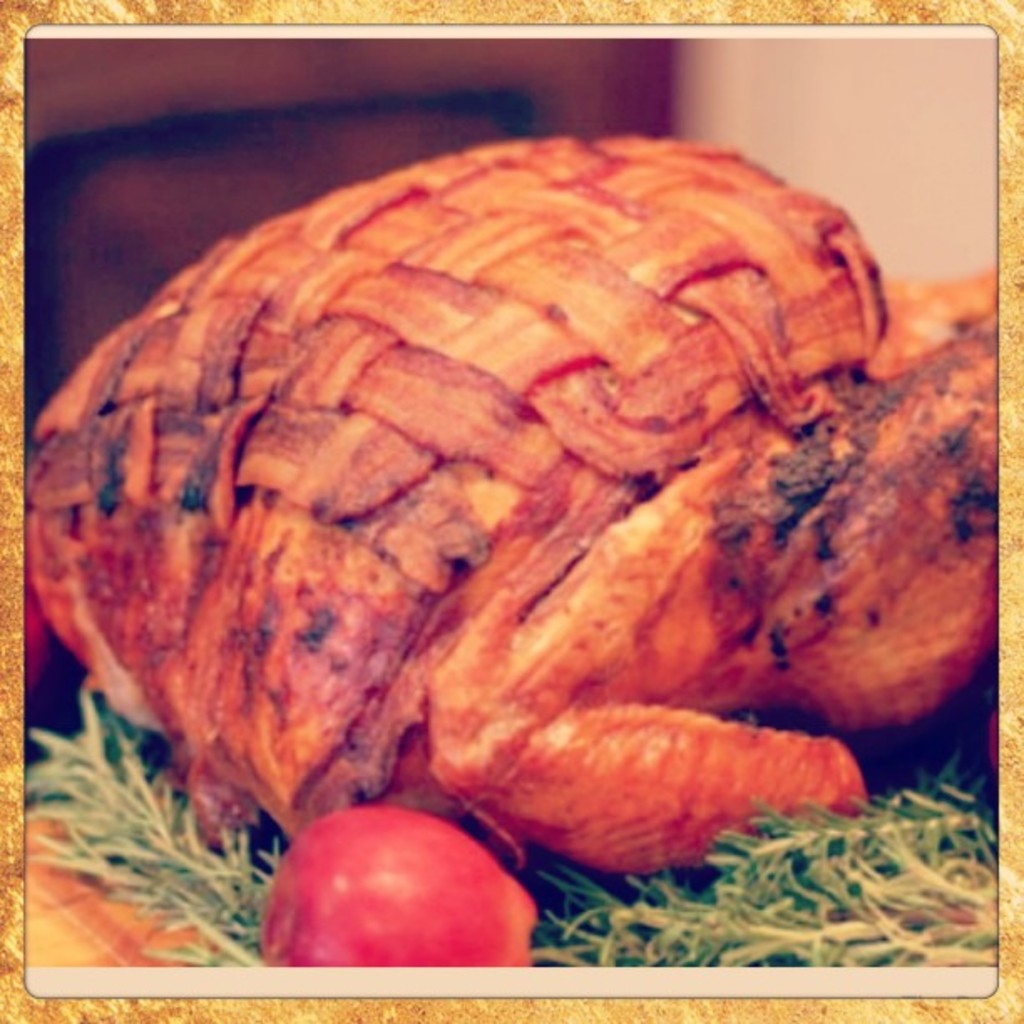Apple: (239, 808, 540, 982)
